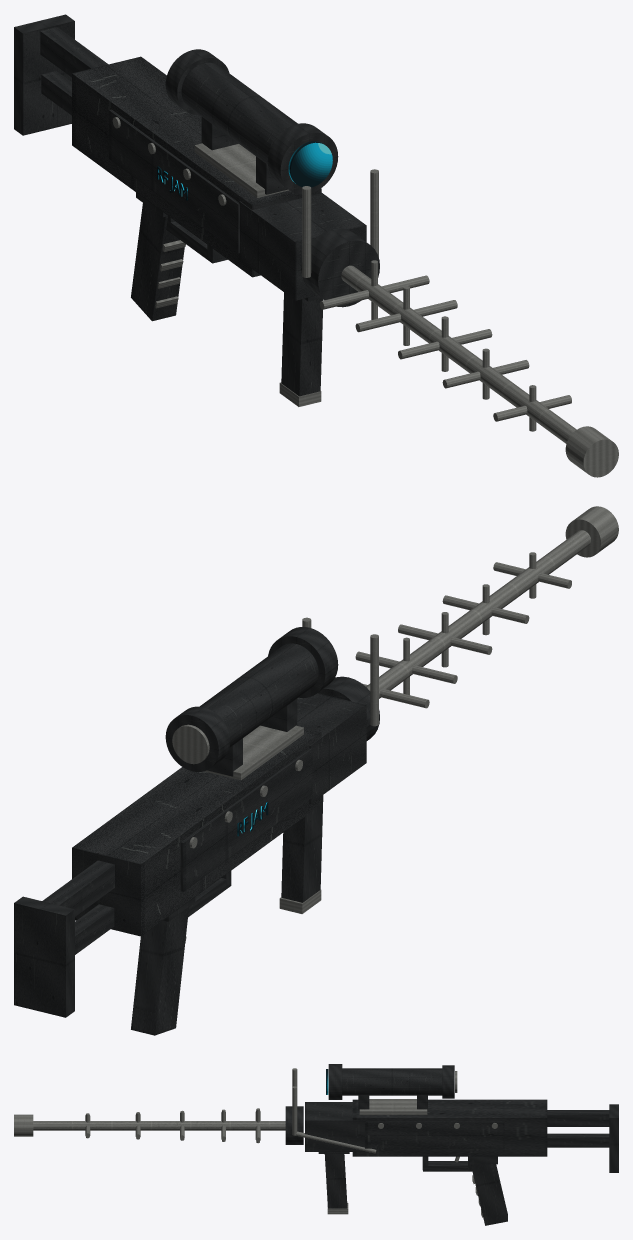
The model's file is jammer_gun.fbx.
3 views of the same model, one above another, from view 1: azimuth 30°, elevation 25°; view 2: azimuth 150°, elevation 25°; view 3: azimuth 270°, elevation 25° (orthographic). The views are drawn at different scales.
Parts seen in each view (by area): view 1: JammerGunMesh; view 2: JammerGunMesh; view 3: JammerGunMesh.
Boxes of the visible parts, x1=… form: JammerGunMesh: x1=14, y1=14, x2=618, y2=477; JammerGunMesh: x1=14, y1=506, x2=618, y2=1035; JammerGunMesh: x1=14, y1=1064, x2=618, y2=1225.
Size of the model in its own units: 2.41 by 22.28 by 6.38.
